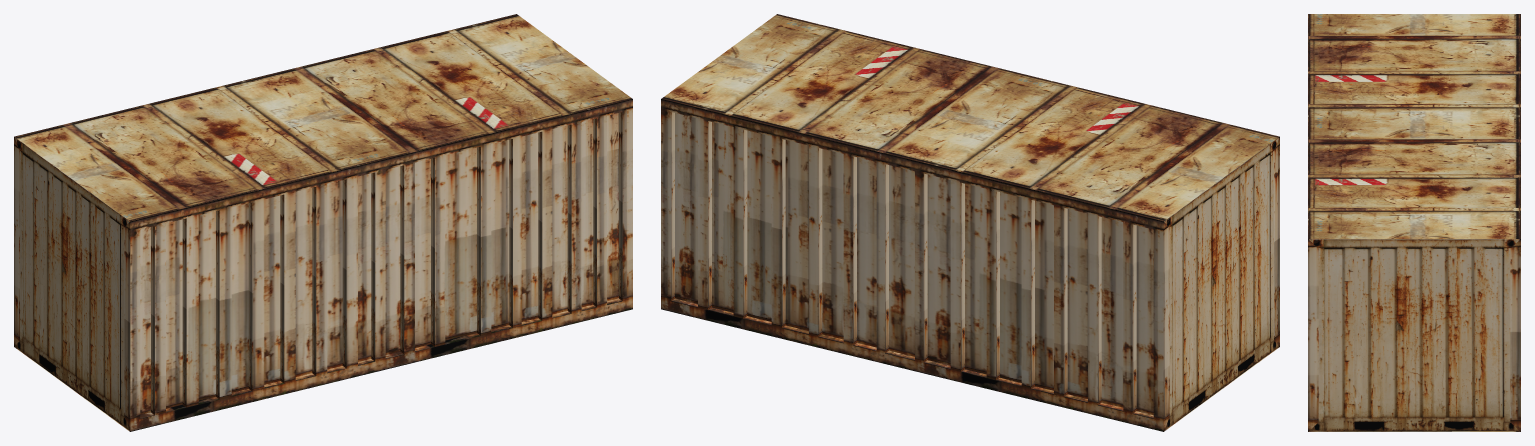
The model's file is Steel Container.FBX.
3 views of the same model, side by side, from view 1: azimuth 30°, elevation 25°; view 2: azimuth 150°, elevation 25°; view 3: azimuth 270°, elevation 25° (orthographic). The views are drawn at different scales.
Parts seen in each view (by area): view 1: steel container; view 2: steel container; view 3: steel container.
Part boxes in pixels (x1,y1,x2,y2): steel container: [14, 14, 632, 431]; steel container: [661, 14, 1279, 431]; steel container: [1308, 14, 1520, 431].
Size of the model in its own units: 91.03 by 36.41 by 36.41.
